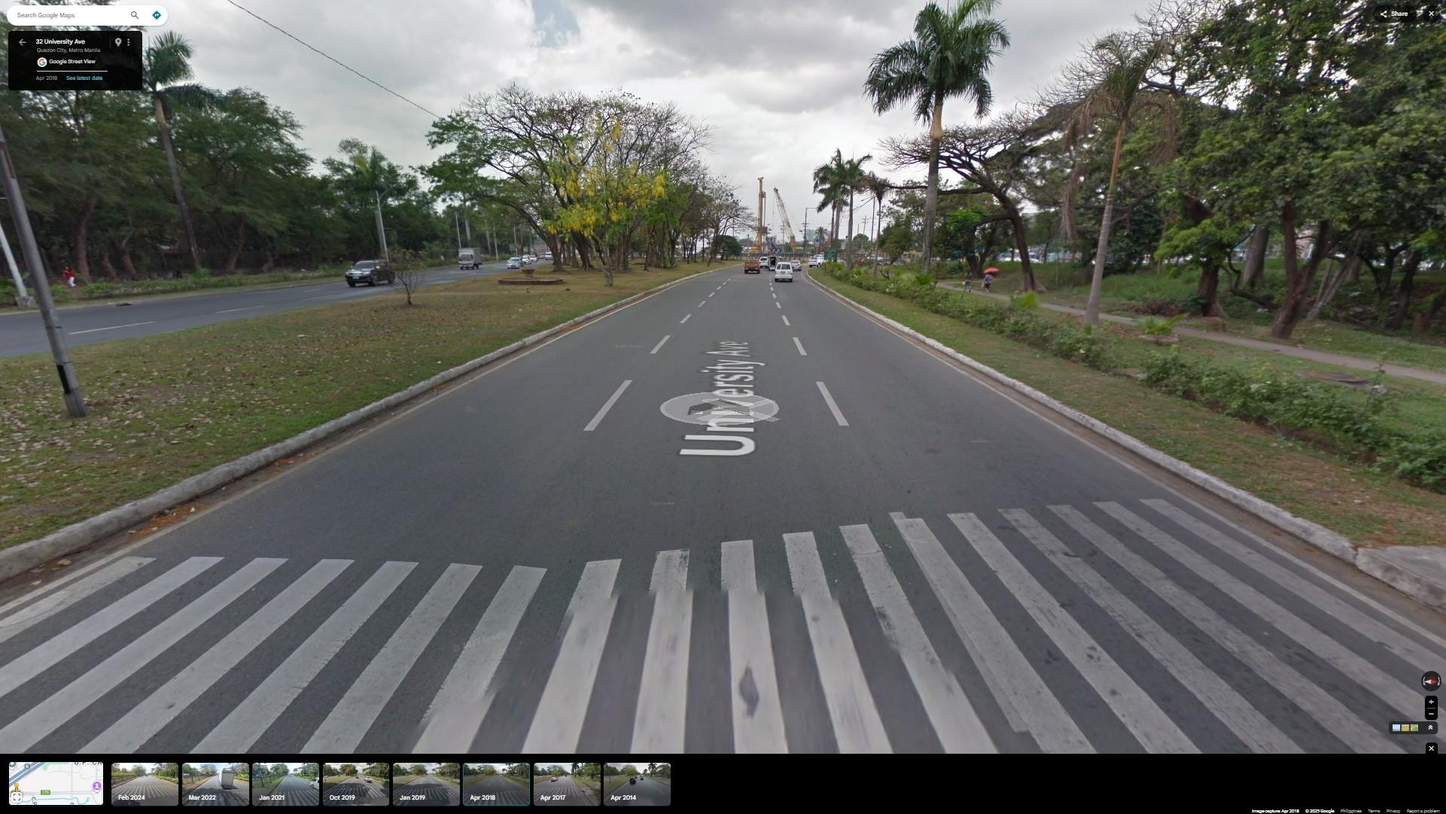pedestrian: (61, 262, 78, 291), (961, 268, 974, 294), (981, 271, 993, 294)
